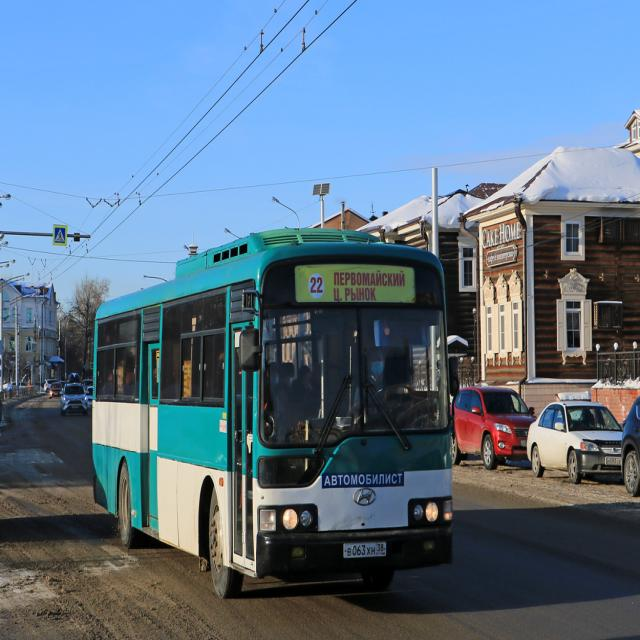number-of-bus: (309, 275, 325, 298)
